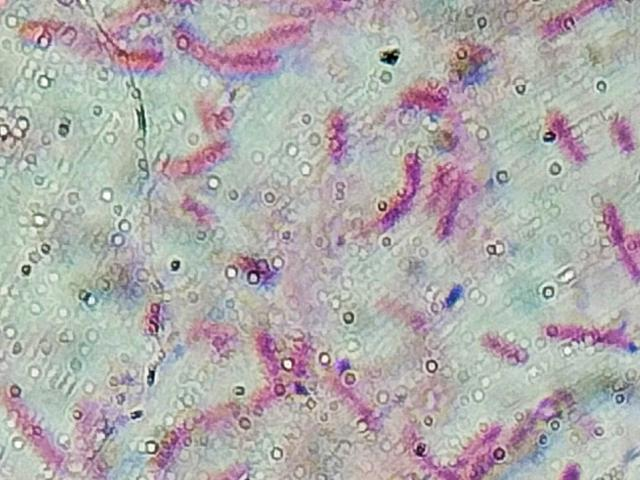E. coli: (3, 387, 49, 463), (548, 316, 637, 353), (545, 102, 593, 167), (31, 16, 112, 54), (159, 140, 235, 178), (385, 152, 422, 230), (605, 200, 640, 281), (325, 375, 375, 429), (472, 325, 529, 371), (199, 37, 277, 69), (79, 395, 113, 465), (551, 0, 612, 37), (232, 246, 288, 283), (509, 400, 554, 446), (115, 40, 166, 78), (446, 170, 470, 248), (322, 105, 355, 161), (251, 16, 318, 43), (206, 393, 267, 422), (248, 327, 280, 379), (149, 422, 184, 469), (293, 330, 322, 383), (611, 107, 638, 161), (413, 435, 446, 479), (179, 192, 222, 223), (408, 80, 449, 109), (429, 159, 451, 210), (201, 96, 227, 133), (556, 456, 590, 480), (481, 446, 500, 480)
